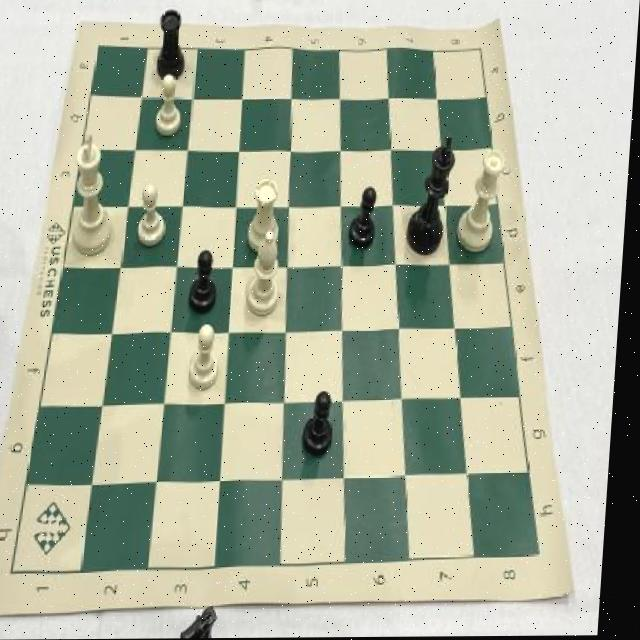black-bishop: (404, 130, 464, 260)
black-knight: (302, 386, 347, 462), (188, 245, 227, 321), (347, 179, 385, 255)
black-queen: (149, 5, 193, 85)
black-rook: (246, 229, 293, 325)
white-bishop: (68, 124, 127, 260)
white-knight: (187, 320, 232, 396), (135, 181, 177, 255), (151, 74, 192, 143)
white-pawn: (457, 141, 512, 258)
white-queen: (246, 168, 290, 256)
